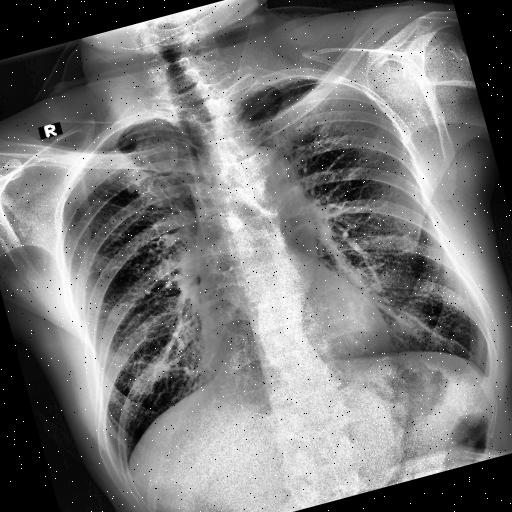0- Aortic enlargement: (220, 134, 312, 228), (224, 138, 310, 232), (227, 138, 306, 220)
7- Lung Opacity: (88, 119, 196, 218)
